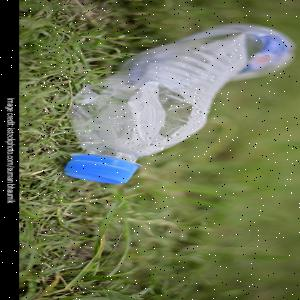Plastic-bottle: (59, 22, 299, 188)
